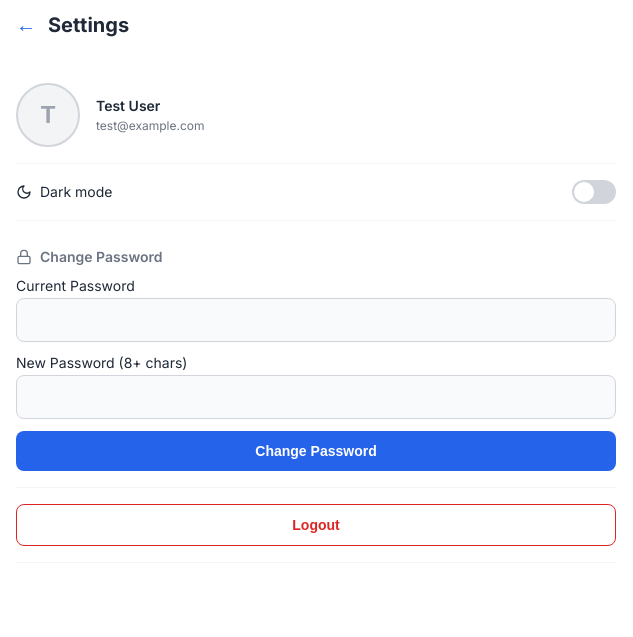
Scenario: SettingsPage › shows error message on password change failure
This screenshot has width=633, height=637.
Type "wrong" into the password field labelled "Current Password". click: (316, 320)
box: [16,298,616,342]
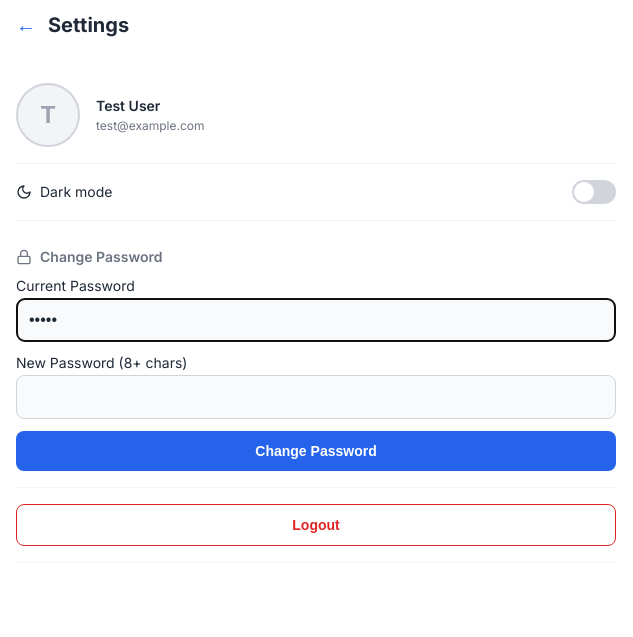
Type "newpassword" into the password field labelled "New Password (8+ chars)". click: (316, 397)
box: [16,375,616,419]
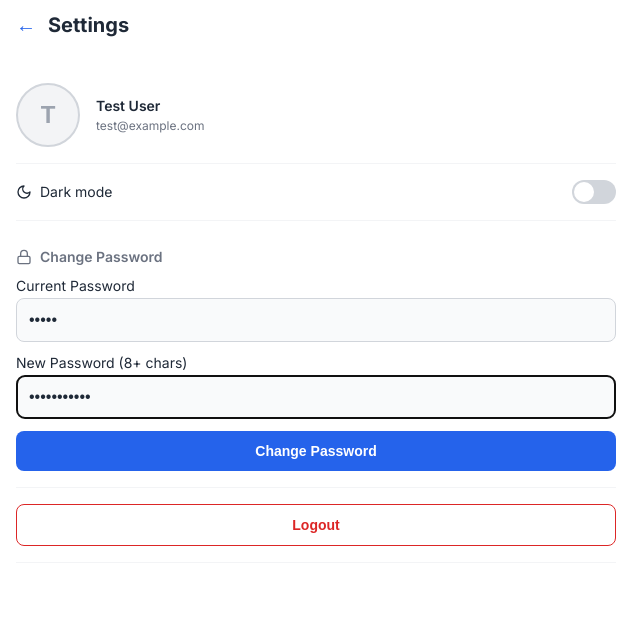
Click the button "Change Password". click: (316, 451)
box: [16,431,616,471]
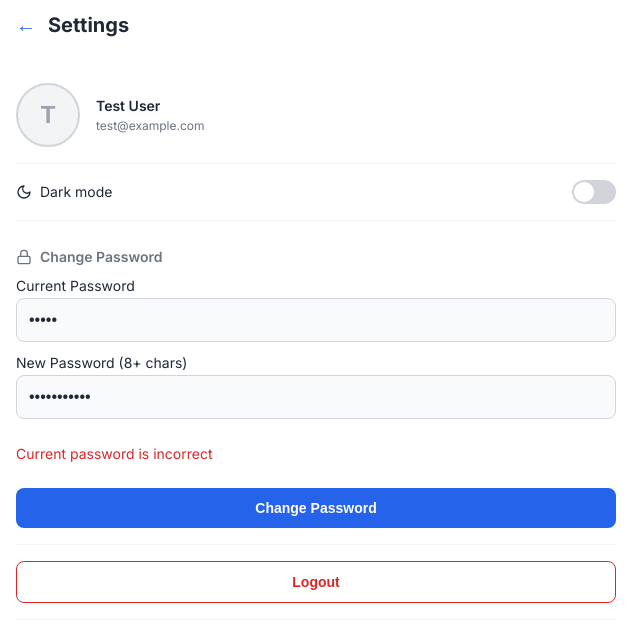
Result: the text "Current password is incorrect" is shown at [16,445,212,462]
